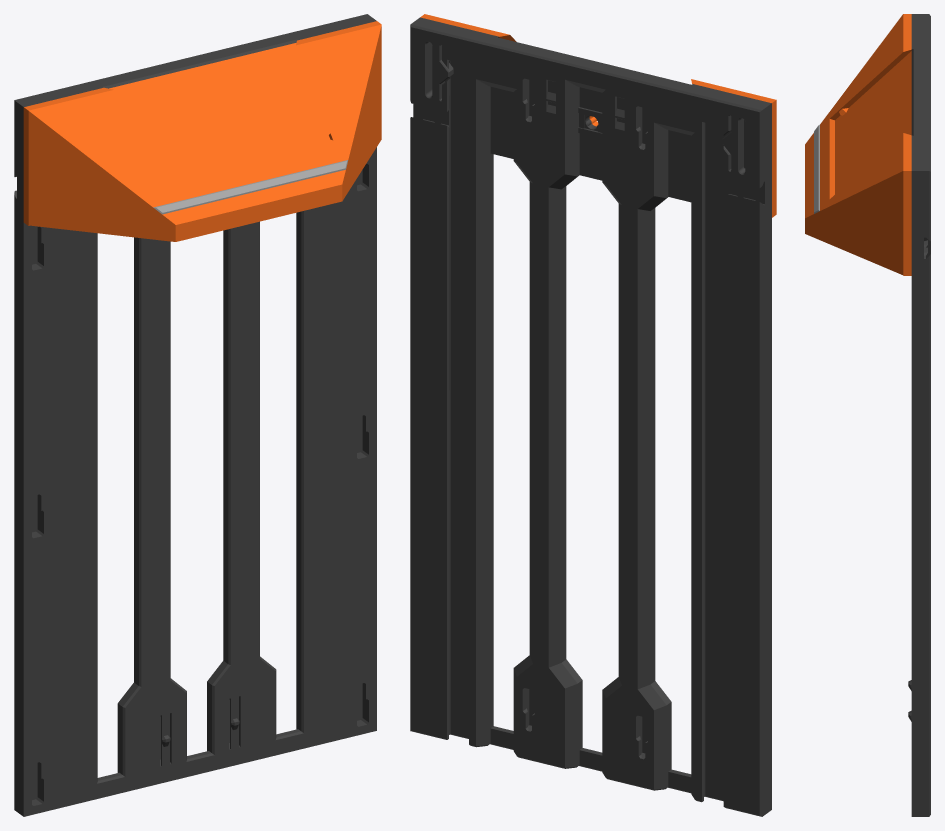
File: Faceplate_ClassicPro_1W-3H.lib.glb
The picture shows the model from 3 angles, left to right: view 1: azimuth 30°, elevation 25°; view 2: azimuth 150°, elevation 25°; view 3: azimuth 270°, elevation 25°; orthographic projection. The views are drawn at different scales.
Parts seen in each view (by area): view 1: Faceplate_ClassicPro_1W-3H; view 2: Faceplate_ClassicPro_1W-3H; view 3: Faceplate_ClassicPro_1W-3H.
Part boxes in pixels (bbox=[...]): Faceplate_ClassicPro_1W-3H: bbox=[14, 14, 381, 816]; Faceplate_ClassicPro_1W-3H: bbox=[410, 14, 776, 816]; Faceplate_ClassicPro_1W-3H: bbox=[805, 14, 930, 816].
Size of the model in its own units: 87 by 167 by 29.5.
